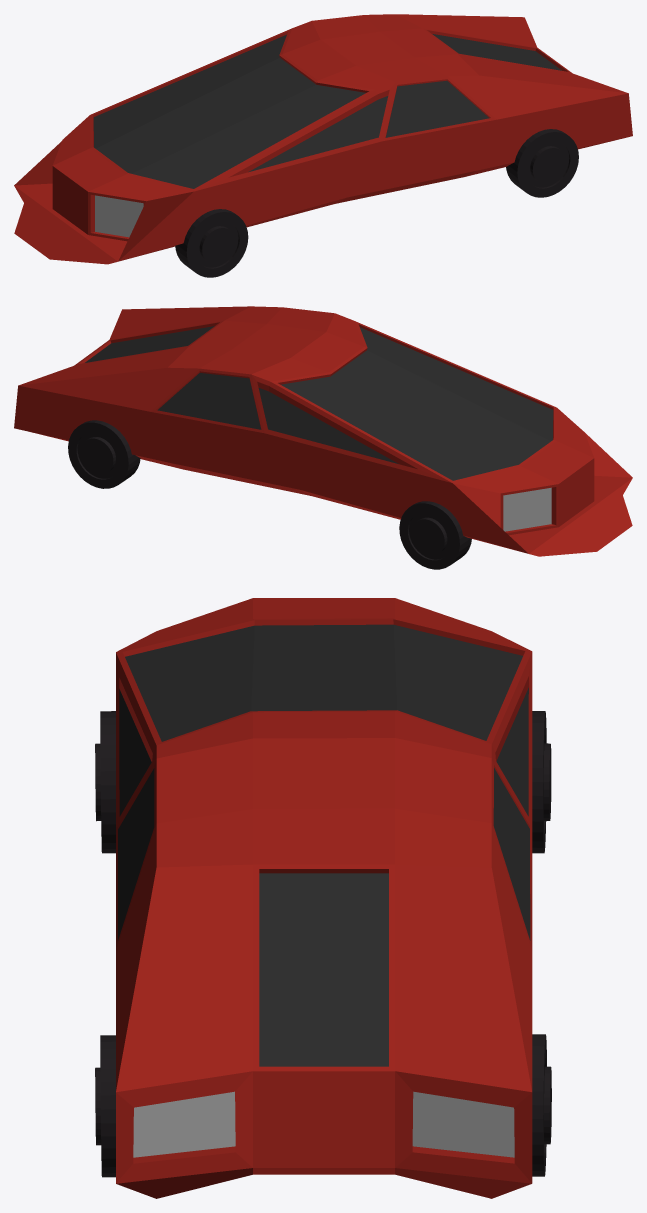
3 views of the same model, one above another, from view 1: azimuth 30°, elevation 25°; view 2: azimuth 150°, elevation 25°; view 3: azimuth 270°, elevation 25° (orthographic). The views are drawn at different scales.
Parts seen in each view (by area): view 1: Cube, Cylinder.001, Cylinder; view 2: Cube, Cylinder.003, Cylinder.002; view 3: Cube, Cylinder, Cylinder.001, Cylinder.003, Cylinder.002.
Boxes of the visible parts, box(x1,y1,x2,y2) form: Cube: box(14, 14, 632, 264); Cylinder.001: box(175, 209, 248, 277); Cylinder: box(506, 129, 578, 197); Cube: box(14, 306, 632, 556); Cylinder.003: box(68, 420, 140, 488); Cylinder.002: box(399, 501, 471, 569); Cube: box(116, 598, 532, 1198); Cylinder: box(95, 1035, 115, 1177); Cylinder.001: box(95, 711, 115, 853); Cylinder.003: box(532, 1034, 551, 1176); Cylinder.002: box(532, 711, 551, 853).
Bounding box in the file's own units: 578 × 142 × 208.
